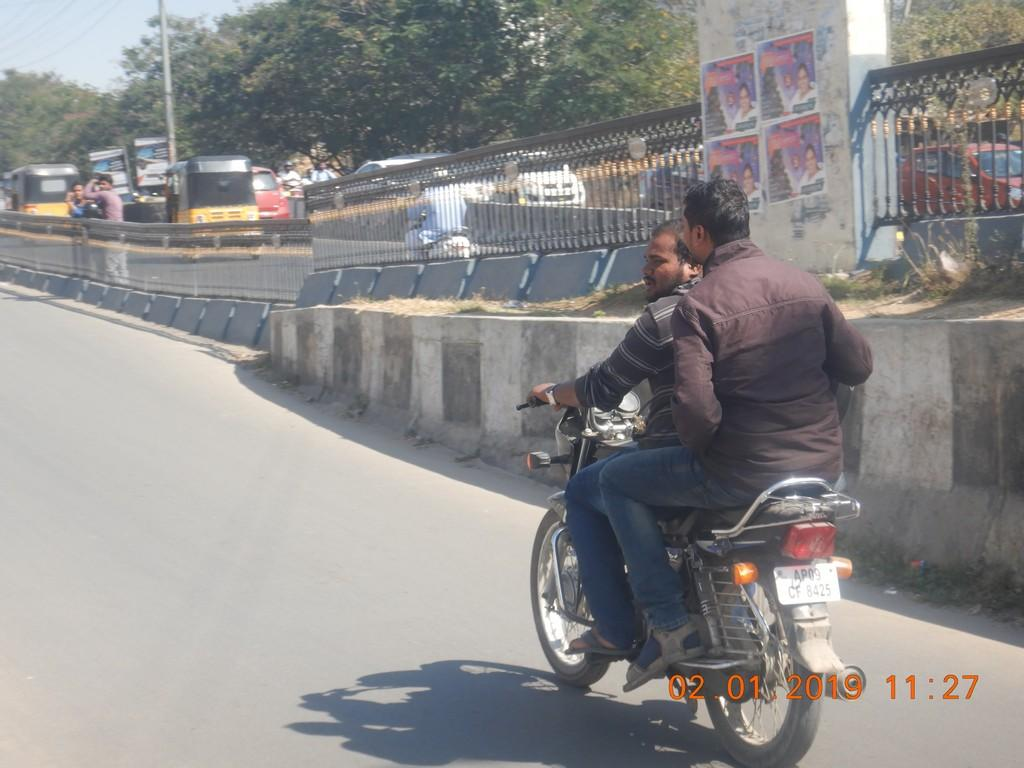plate: (774, 561, 840, 605)
